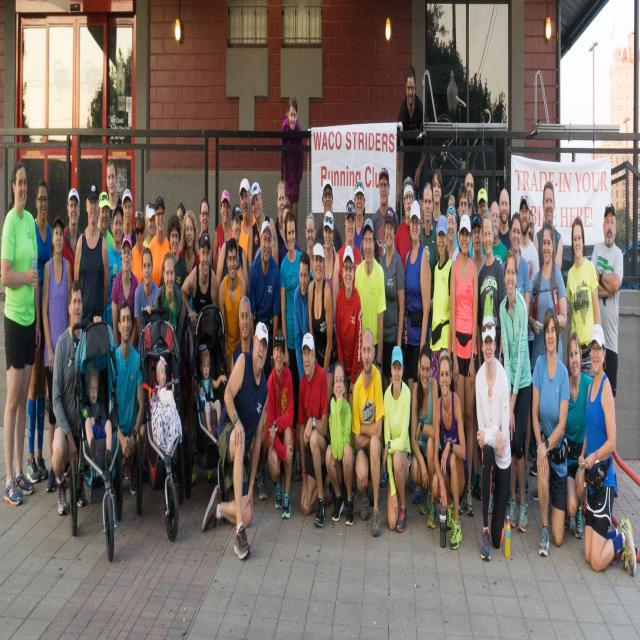body: (202, 316, 270, 562), (577, 322, 637, 580), (0, 157, 41, 508), (49, 276, 104, 520), (179, 228, 219, 489), (530, 304, 570, 561), (590, 199, 624, 498), (528, 222, 567, 476), (474, 313, 513, 565), (498, 245, 532, 533), (449, 212, 479, 522), (26, 178, 56, 486), (403, 196, 432, 510), (501, 212, 532, 493), (41, 215, 72, 492), (350, 325, 385, 542), (432, 348, 469, 550), (379, 206, 405, 488), (335, 245, 363, 506), (110, 234, 138, 482), (562, 330, 594, 541), (297, 331, 331, 528), (280, 210, 304, 484), (565, 215, 602, 381), (264, 328, 295, 522), (518, 193, 540, 464), (354, 214, 387, 392), (324, 357, 358, 528), (382, 342, 412, 534), (116, 301, 145, 497), (248, 219, 281, 384), (411, 342, 439, 528), (73, 180, 110, 320), (476, 209, 507, 373), (396, 63, 426, 226), (470, 214, 486, 502), (308, 237, 335, 407), (331, 198, 363, 338), (144, 251, 184, 361), (218, 236, 246, 384), (247, 181, 280, 297), (430, 214, 452, 387), (280, 94, 304, 246), (84, 361, 113, 474), (419, 180, 441, 326), (532, 179, 564, 278), (216, 203, 248, 298), (370, 166, 400, 264), (293, 248, 314, 383), (102, 203, 124, 330), (134, 246, 159, 355), (198, 348, 227, 437), (313, 177, 343, 254), (177, 206, 201, 302), (148, 195, 171, 289), (159, 214, 187, 291), (394, 175, 416, 271), (211, 186, 233, 276), (62, 186, 82, 280), (454, 183, 475, 265), (482, 201, 508, 267), (238, 176, 257, 262), (104, 158, 123, 236), (322, 210, 338, 298), (457, 171, 479, 232), (130, 205, 146, 286), (196, 196, 212, 268), (96, 190, 114, 251), (120, 186, 136, 248), (446, 194, 460, 264), (274, 180, 287, 255), (354, 181, 366, 261), (498, 187, 512, 251), (430, 167, 443, 235), (305, 211, 316, 280), (143, 201, 156, 249), (280, 196, 292, 242), (154, 354, 167, 388), (176, 198, 187, 237), (477, 188, 488, 220), (527, 210, 535, 243)
